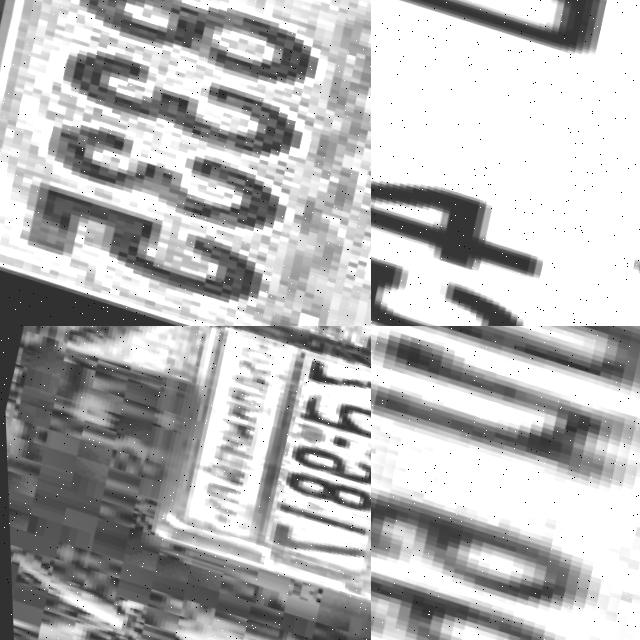license-plate: (0, 0, 371, 326), (371, 0, 640, 326), (371, 326, 640, 640), (127, 326, 371, 616)
